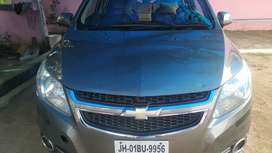JH01BU9956: (114, 140, 169, 153)
